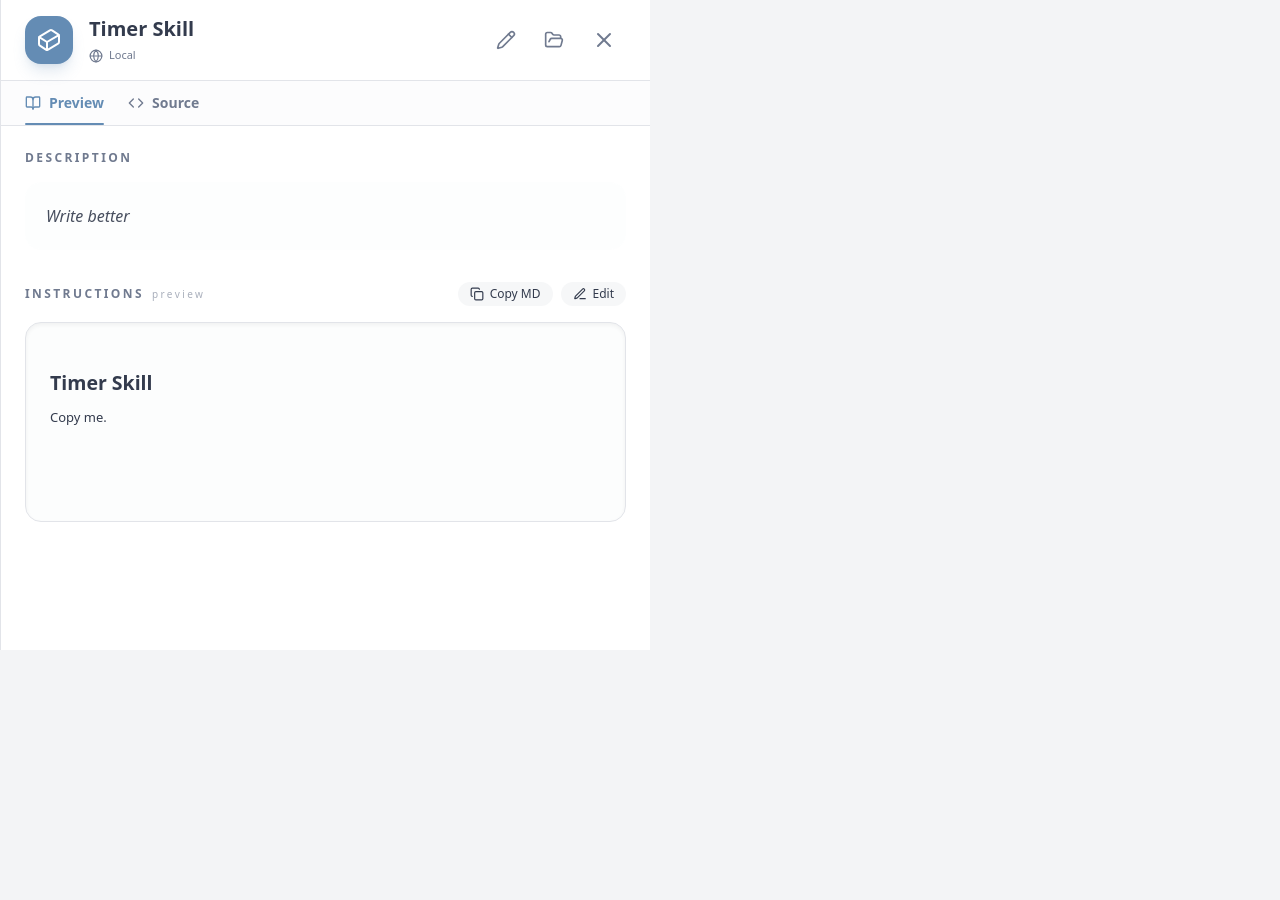
Test: SkillDetailView timer lifecycle › does not show copied feedback when clipboard copy fails
Click the button "Copy MD" at (505, 294), box [458, 282, 552, 306]
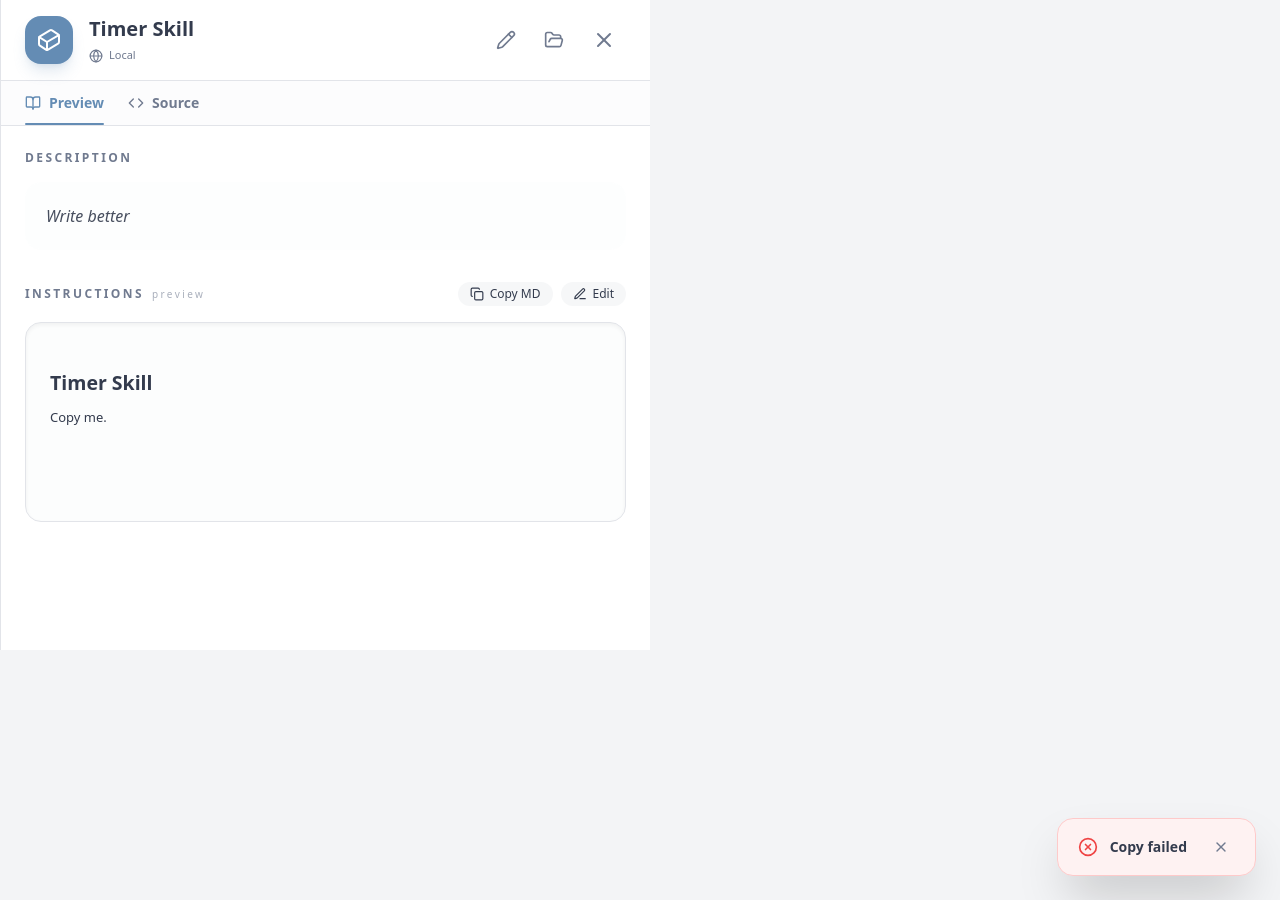
Expected: the text "Copy failed" is shown, [1110, 837, 1187, 857]
